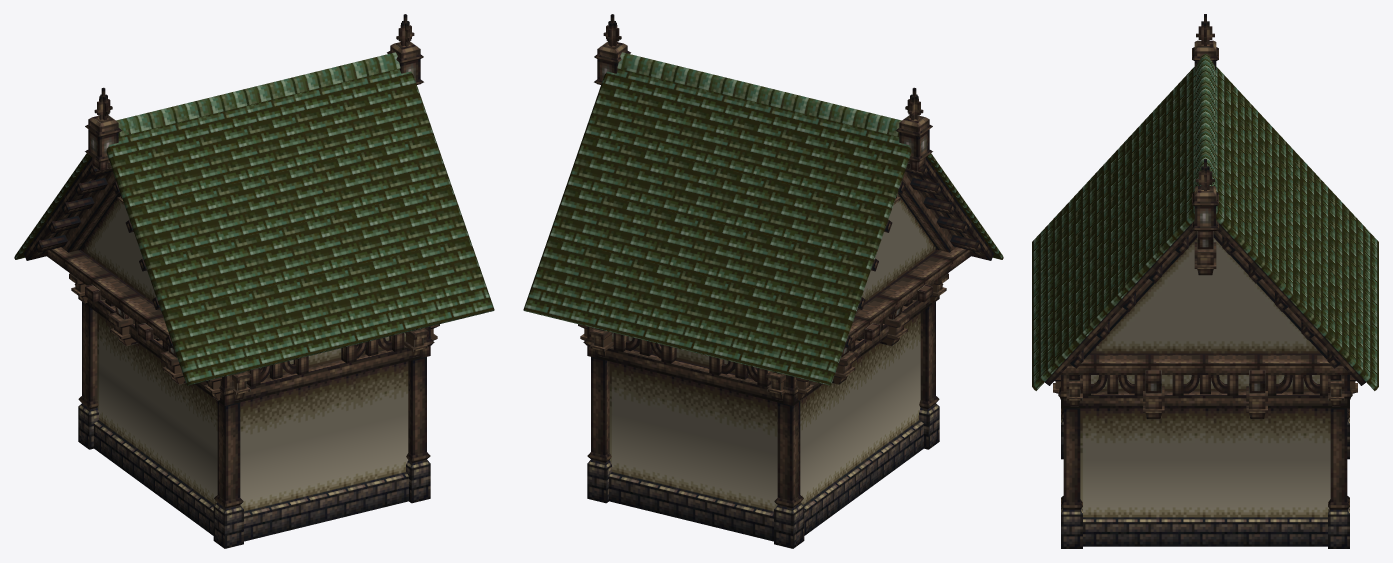
Rendered from EnvBdgMD_City_C_Outdoor_5W4D_A.FBX.
3 renders of one model, left to right at view 1: azimuth 30°, elevation 25°; view 2: azimuth 150°, elevation 25°; view 3: azimuth 270°, elevation 25°, orthographic.
Visible parts, largest first — view 1: EnvBdgMD_City_C_Outdoor_5W4D_A; view 2: EnvBdgMD_City_C_Outdoor_5W4D_A; view 3: EnvBdgMD_City_C_Outdoor_5W4D_A.
Boxes of the visible parts, x1,y1,x2,y2 form: EnvBdgMD_City_C_Outdoor_5W4D_A: (14,14,494,548); EnvBdgMD_City_C_Outdoor_5W4D_A: (523,14,1003,548); EnvBdgMD_City_C_Outdoor_5W4D_A: (1032,14,1378,548).
Size of the model in its own units: 680 by 835 by 636.
